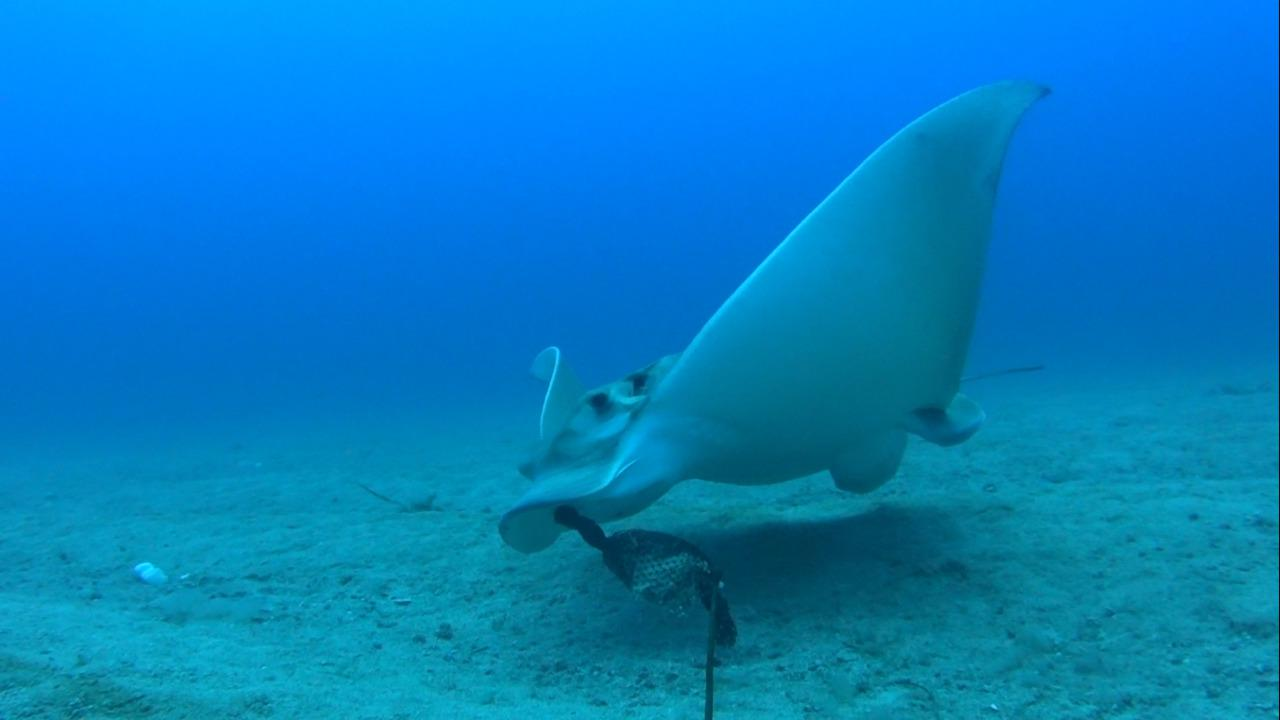myliobatis: (496, 73, 1062, 558)
